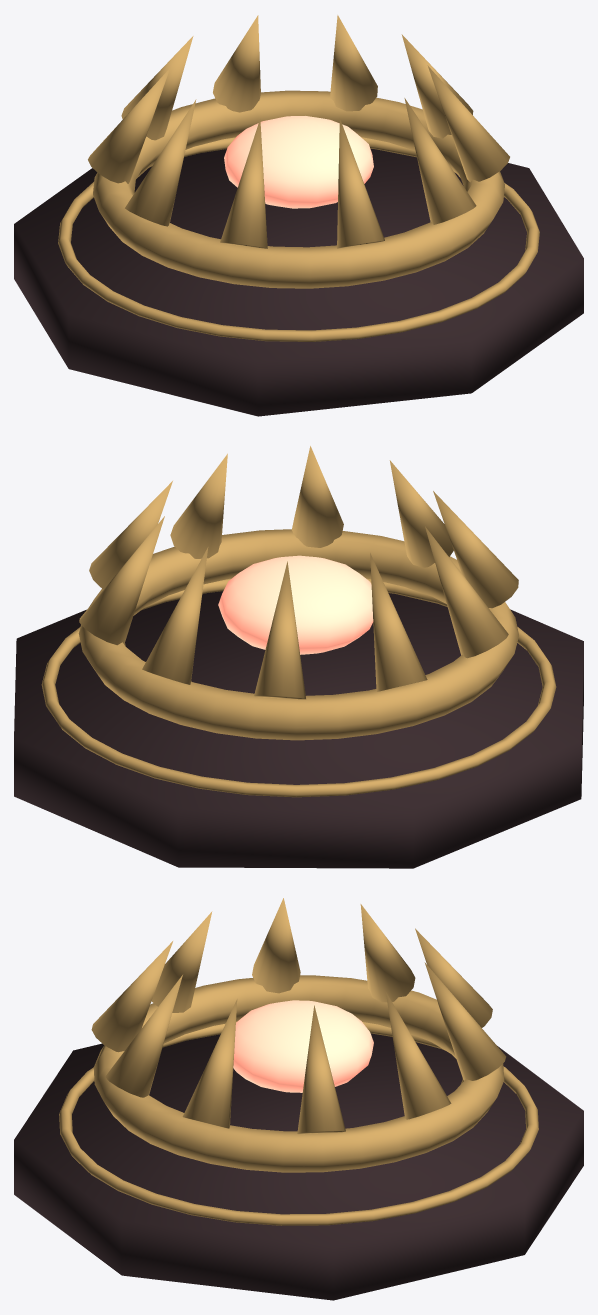
The picture shows the model from 3 angles, top to bottom: view 1: azimuth 30°, elevation 25°; view 2: azimuth 150°, elevation 25°; view 3: azimuth 270°, elevation 25°; orthographic projection. The views are drawn at different scales.
Visible parts, largest first — view 1: Hexagonal plinth, Trap frame, Inlaid rim, Snare charge, Runic tooth.008, Runic tooth.009, Runic tooth.004, Runic tooth.007, Runic tooth.005, Runic tooth.006, Runic tooth.002, Runic tooth.001 (+2 smaller); view 2: Hexagonal plinth, Trap frame, Snare charge, Inlaid rim, Runic tooth.005, Runic tooth.001, Runic tooth.003, Runic tooth.004, Runic tooth.002, Runic tooth.006, Runic tooth.009, Runic tooth.008 (+2 smaller); view 3: Hexagonal plinth, Trap frame, Snare charge, Inlaid rim, Runic tooth.002, Runic tooth.001, Runic tooth.008, Runic tooth, Runic tooth.009, Runic tooth.007, Runic tooth.004, Runic tooth.005 (+2 smaller).
Boxes of the visible parts, x1,y1,x2,y2 form: Hexagonal plinth: (14, 148, 583, 416); Trap frame: (93, 90, 504, 288); Inlaid rim: (58, 137, 539, 341); Snare charge: (224, 116, 373, 208); Runic tooth.008: (404, 98, 476, 224); Runic tooth.009: (427, 65, 509, 182); Runic tooth.004: (88, 68, 169, 183); Runic tooth.007: (337, 118, 384, 248); Runic tooth.005: (125, 99, 196, 226); Runic tooth.006: (220, 119, 267, 248); Runic tooth.002: (213, 15, 260, 112); Runic tooth.001: (330, 15, 377, 111); Hexagonal plinth: (14, 591, 583, 868); Trap frame: (78, 529, 518, 740); Snare charge: (218, 555, 373, 654); Inlaid rim: (41, 578, 556, 797); Runic tooth.005: (425, 526, 508, 658); Runic tooth.001: (79, 516, 164, 645); Runic tooth.003: (254, 561, 305, 699); Runic tooth.004: (370, 553, 427, 691); Runic tooth.002: (142, 547, 208, 684); Runic tooth.006: (433, 491, 518, 608); Runic tooth.009: (170, 453, 227, 558); Runic tooth.008: (292, 446, 343, 547); Hexagonal plinth: (14, 1033, 583, 1300); Trap frame: (93, 975, 504, 1172); Snare charge: (233, 1000, 373, 1092); Inlaid rim: (59, 1021, 538, 1225); Runic tooth.002: (424, 962, 506, 1080); Runic tooth.001: (385, 991, 451, 1119); Runic tooth.008: (105, 975, 182, 1097); Runic tooth: (297, 1005, 345, 1134); Runic tooth.009: (182, 999, 237, 1128); Runic tooth.007: (91, 941, 172, 1052); Runic tooth.004: (360, 904, 415, 1002); Runic tooth.005: (252, 898, 300, 993).
Size of the model in its own units: 1.51 by 0.6696 by 1.51.
